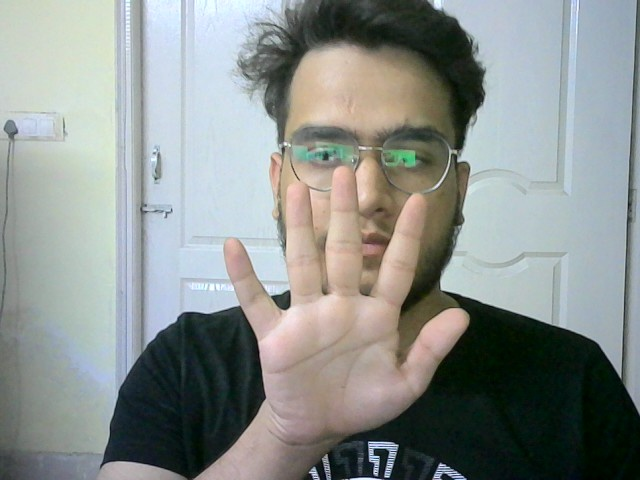Hello: (219, 170, 468, 425)
